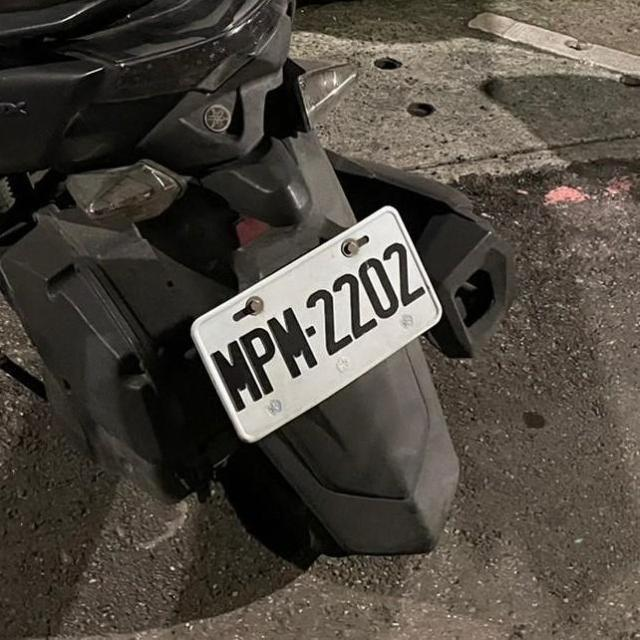W: (176, 202, 457, 448)
